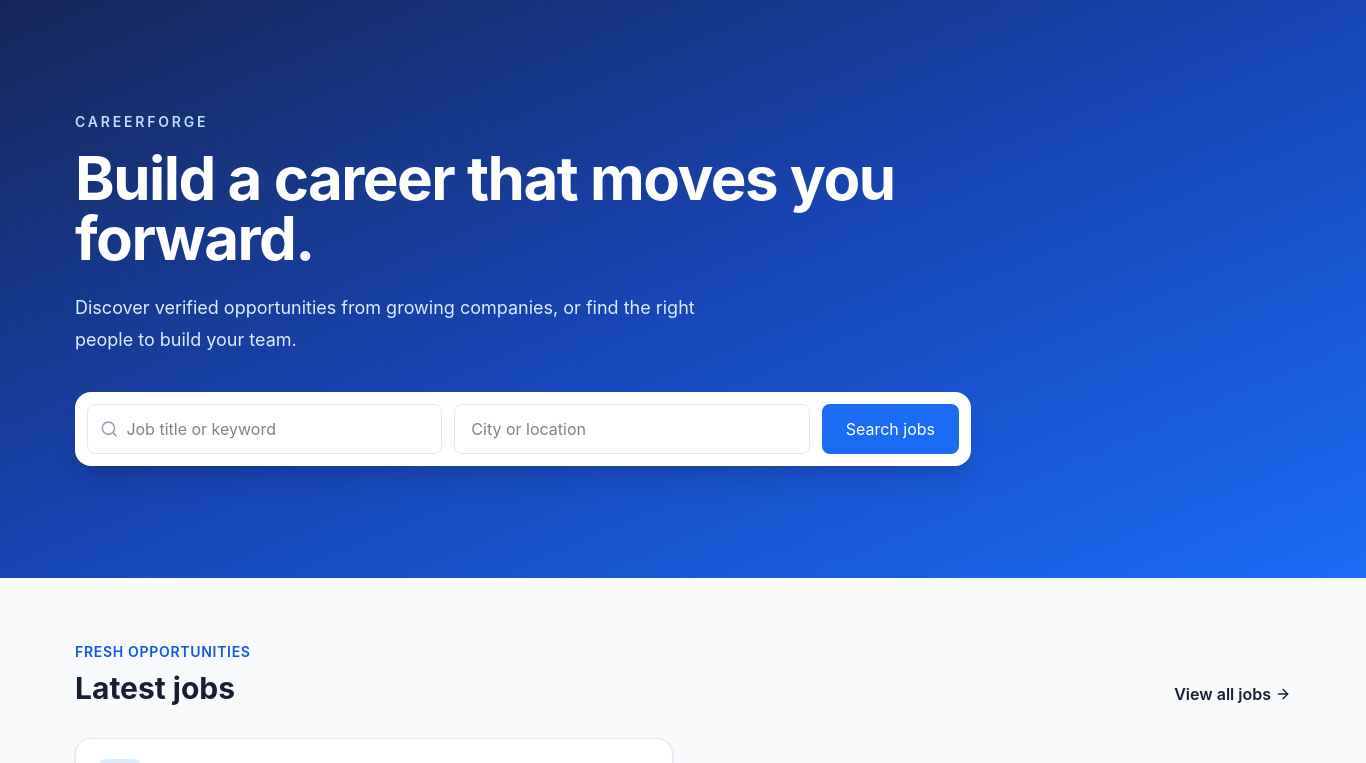
it: Public pages › loads the latest jobs on home and carries search into the jobs URL
The image size is (1366, 763).
Type "Java" into the field labelled "Job title or keyword" at (278, 429), box [126,405,429,453]
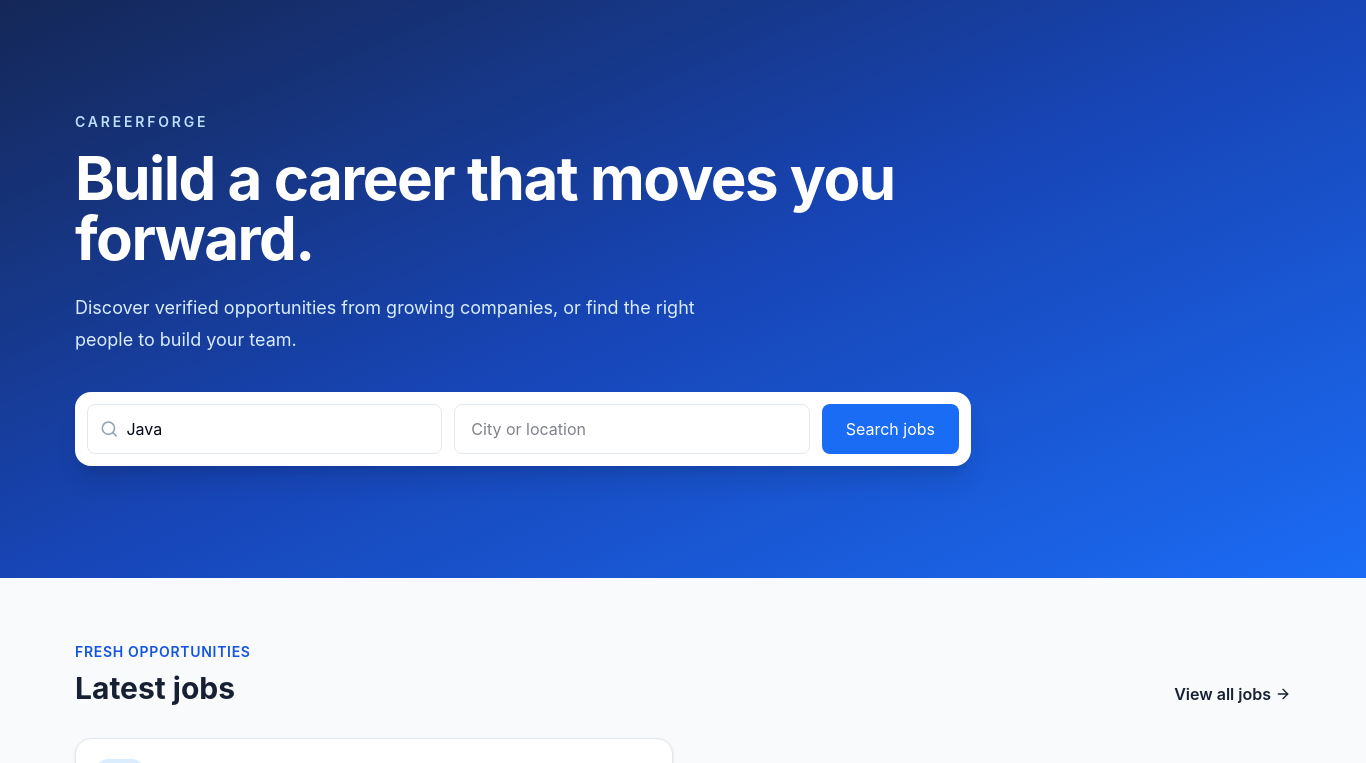
Type "Hyderabad" into the field labelled "location" at (632, 429), box [454,404,810,454]
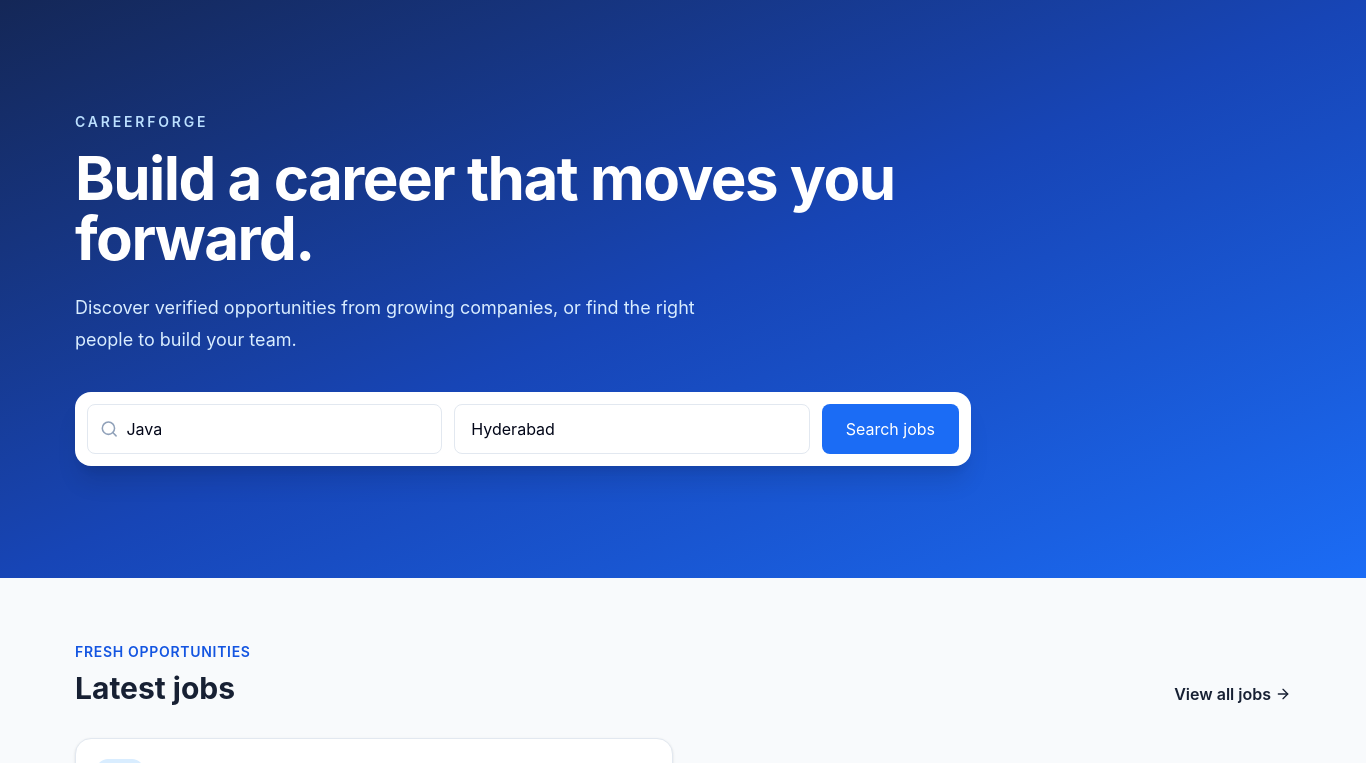
Click the button "Search jobs" at (890, 429), box [822,404,959,454]
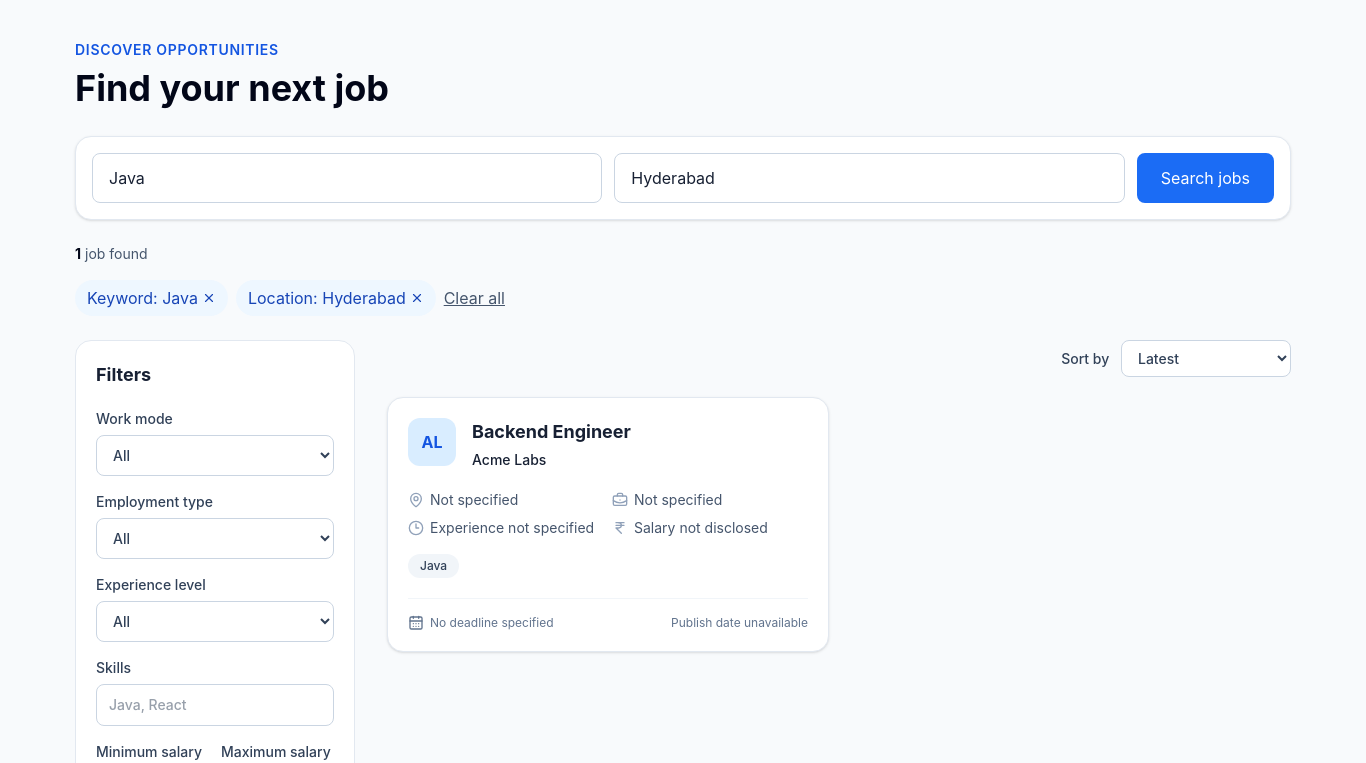
Expected: the 1st field showing "Java" is shown, [92,153,602,203]
Expected: the 2nd field showing "Hyderabad" is shown, [614,153,1125,203]
